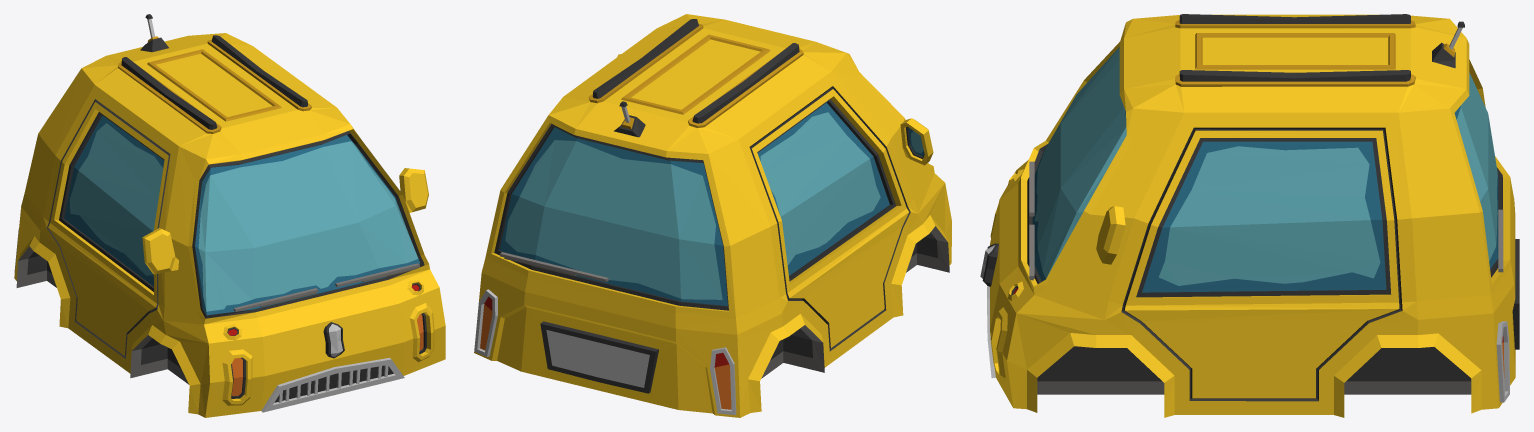
The model's file is Car_C_02.FBX.
3 renders of one model, left to right at view 1: azimuth 30°, elevation 25°; view 2: azimuth 150°, elevation 25°; view 3: azimuth 270°, elevation 25°, orthographic. The views are drawn at different scales.
Parts seen in each view (by area): view 1: Car_C_02; view 2: Car_C_02; view 3: Car_C_02.
Boxes of the visible parts, <box> form: Car_C_02: <box>14,14,445,417</box>; Car_C_02: <box>474,14,951,417</box>; Car_C_02: <box>980,14,1519,417</box>.
Bounding box in the file's own units: 2.79 × 2.31 × 3.63.
